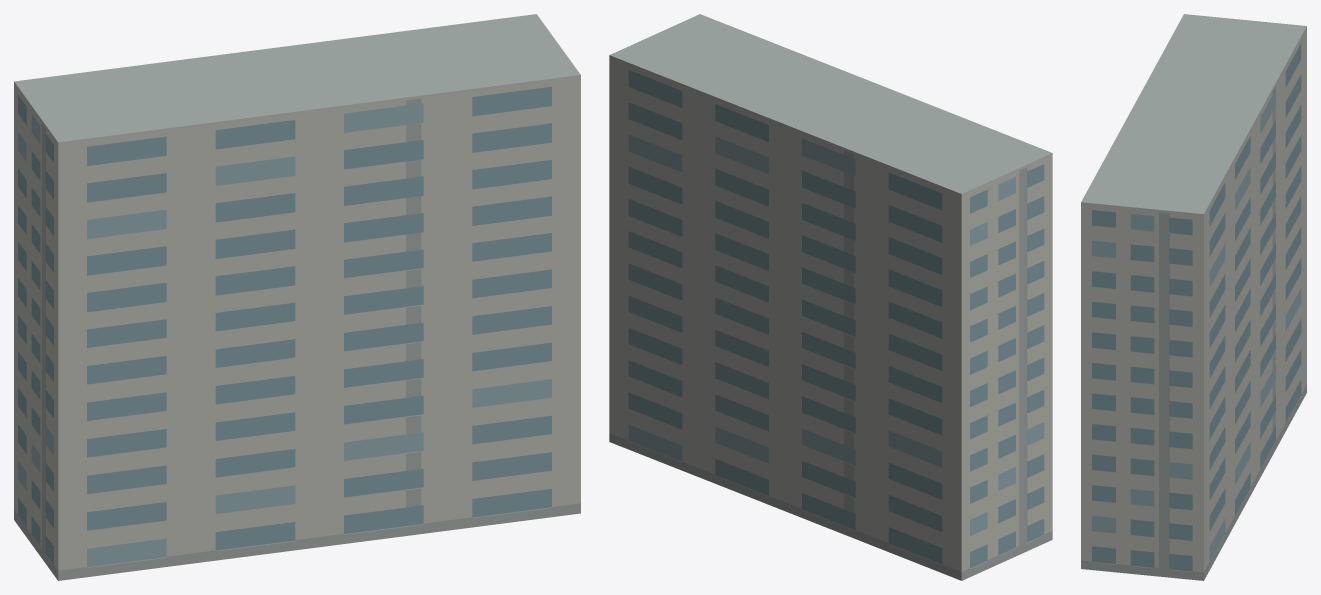
File: residential-cd7035f1-58b5-4656-81b3-17d800bc2c50.glb
The picture shows the model from 3 angles, left to right: view 1: azimuth 30°, elevation 25°; view 2: azimuth 150°, elevation 25°; view 3: azimuth 270°, elevation 25°; orthographic projection. The views are drawn at different scales.
Parts seen in each view (by area): view 1: residential-cd7035f1-58b5-4656-81b3-17d800bc2c50.tmp; view 2: residential-cd7035f1-58b5-4656-81b3-17d800bc2c50.tmp; view 3: residential-cd7035f1-58b5-4656-81b3-17d800bc2c50.tmp.
Part boxes in pixels (x1,y1,x2,y2): residential-cd7035f1-58b5-4656-81b3-17d800bc2c50.tmp: (14, 14, 580, 580); residential-cd7035f1-58b5-4656-81b3-17d800bc2c50.tmp: (609, 14, 1052, 580); residential-cd7035f1-58b5-4656-81b3-17d800bc2c50.tmp: (1081, 14, 1306, 580).
Bounding box in the file's own units: 42.85 × 36.6 × 20.44.
